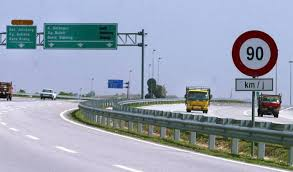Speed_limit_90km: (232, 30, 279, 77)
